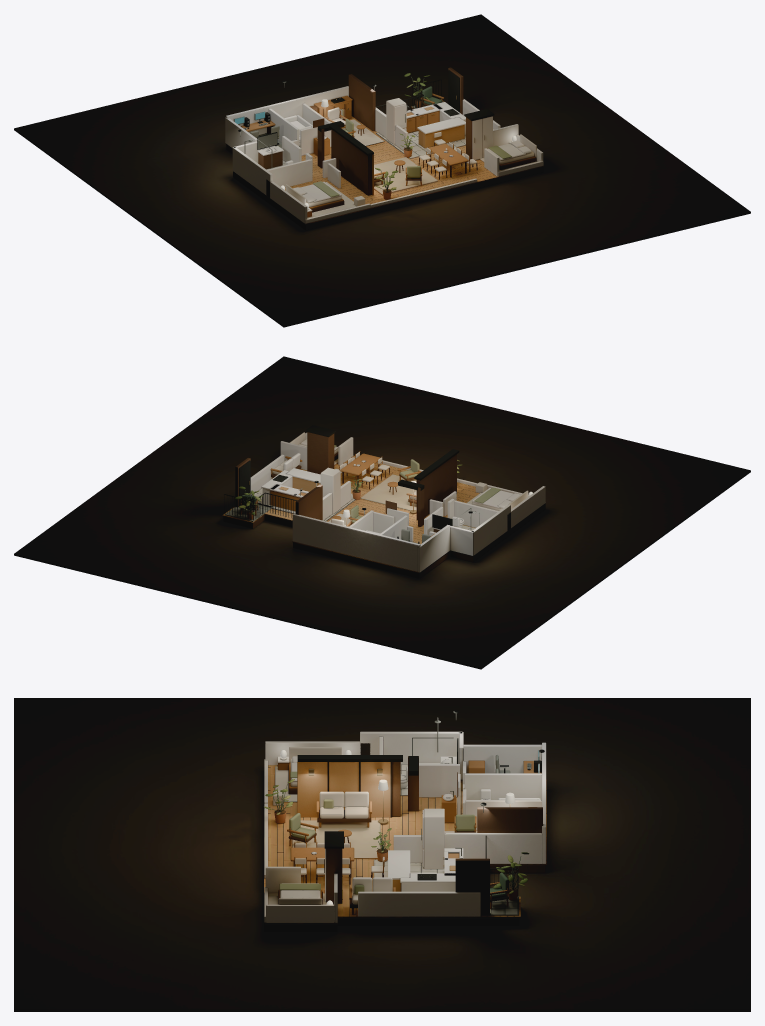
Rendered from amber-room.glb.
The picture shows the model from 3 angles, top to bottom: view 1: azimuth 30°, elevation 25°; view 2: azimuth 150°, elevation 25°; view 3: azimuth 270°, elevation 25°; orthographic projection. The views are drawn at different scales.
Parts seen in each view (by area): view 1: Baked_studio, Baked_architecture, Baked_furniture, Baked_floor; view 2: Baked_studio, Baked_architecture, Baked_furniture, Baked_floor; view 3: Baked_studio, Baked_architecture, Baked_furniture, Baked_floor.
Boxes of the visible parts, bbox=[...] form: Baked_studio: bbox=[14, 14, 750, 327]; Baked_architecture: bbox=[225, 67, 543, 230]; Baked_furniture: bbox=[233, 73, 536, 217]; Baked_floor: bbox=[234, 99, 543, 224]; Baked_studio: bbox=[14, 356, 750, 669]; Baked_architecture: bbox=[223, 432, 545, 578]; Baked_furniture: bbox=[235, 425, 532, 543]; Baked_floor: bbox=[222, 455, 545, 572]; Baked_studio: bbox=[14, 698, 750, 1011]; Baked_architecture: bbox=[264, 731, 546, 931]; Baked_furniture: bbox=[264, 710, 544, 914]; Baked_floor: bbox=[264, 764, 546, 923].
Size of the model in its own units: 28 by 3.3 by 28.
4 materials, 4 textured.
